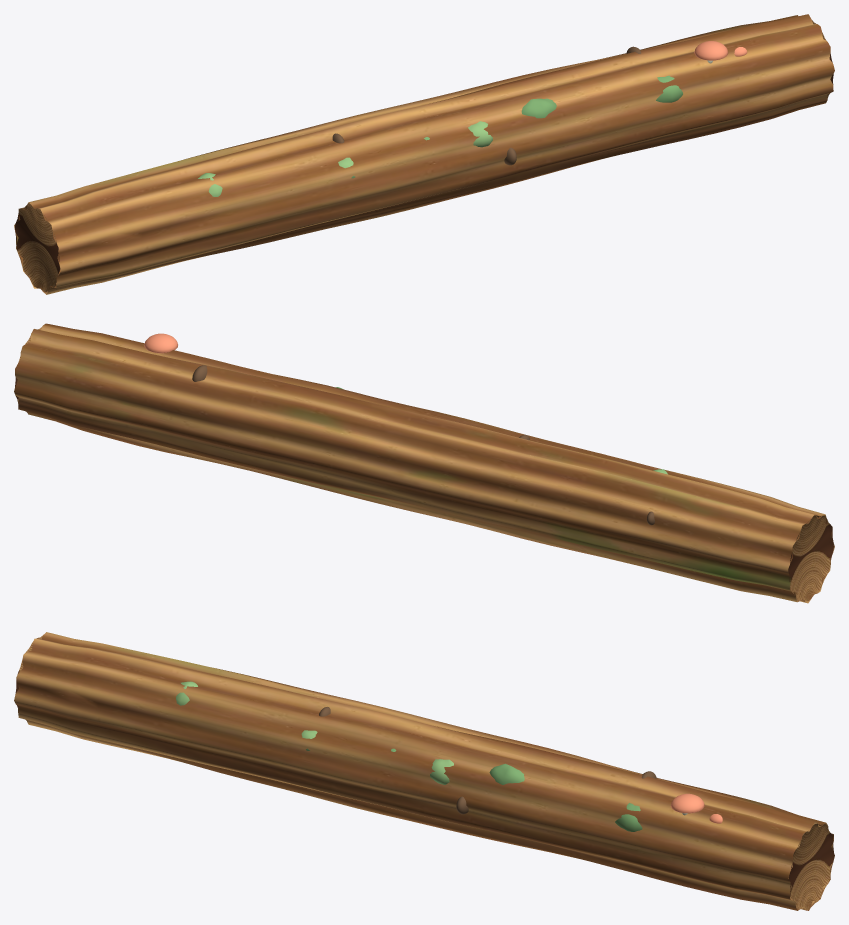
File: hurdle-summer.glb
The picture shows the model from 3 angles, top to bottom: view 1: azimuth 30°, elevation 25°; view 2: azimuth 150°, elevation 25°; view 3: azimuth 330°, elevation 25°; orthographic projection.
Visible parts, largest first — view 1: LogBody, LogCapL, ShroomCap, Moss6; view 2: LogBody, LogCapL, ShroomCap; view 3: LogBody, LogCapR, ShroomCap, Moss6.
Part boxes in pixels (x1,y1,x2,y2): LogBody: [14, 14, 834, 294]; LogCapL: [15, 204, 60, 292]; ShroomCap: [694, 41, 728, 60]; Moss6: [521, 98, 556, 118]; LogBody: [14, 323, 834, 603]; LogCapL: [788, 515, 833, 601]; ShroomCap: [144, 333, 177, 353]; LogBody: [14, 632, 834, 910]; LogCapR: [789, 823, 834, 909]; ShroomCap: [670, 793, 704, 813]; Moss6: [489, 763, 524, 784].
Bounding box in the file's own units: 5.25 × 0.6329 × 0.6366.
Materials: 6 (6 with a texture image).
